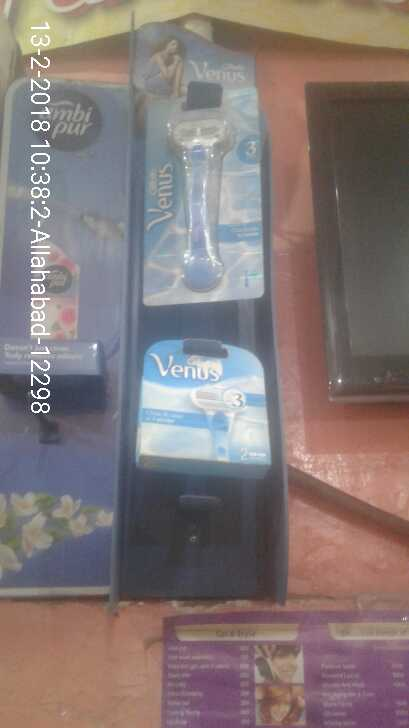venus: (139, 91, 267, 307), (135, 336, 283, 474)
